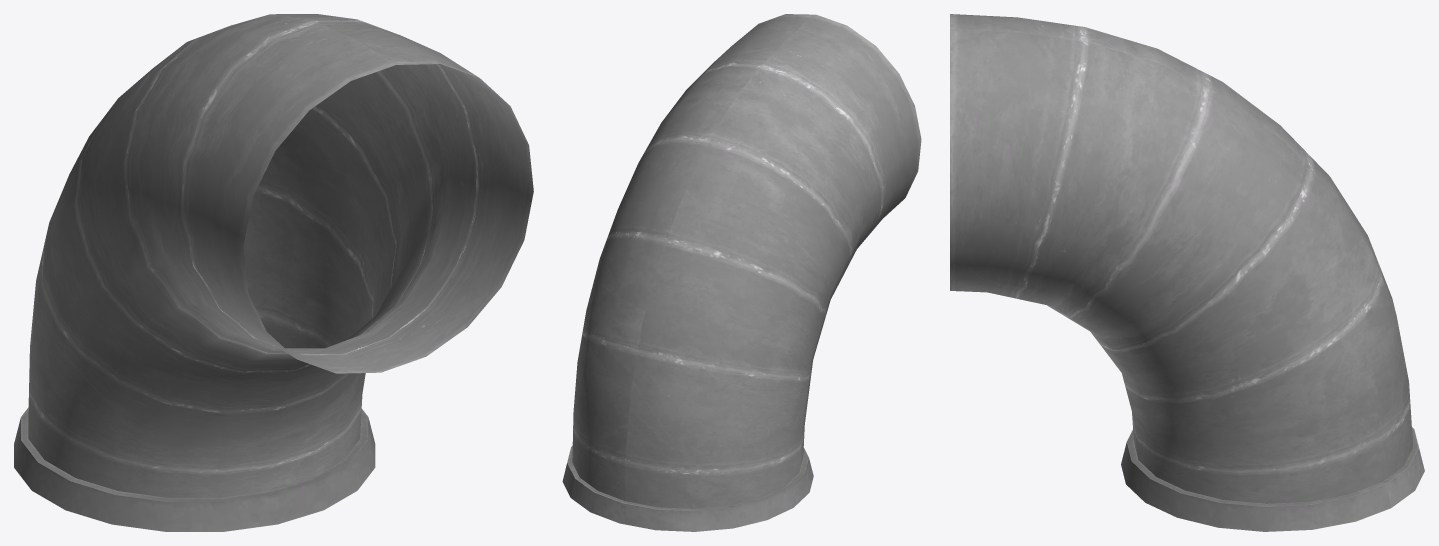
The model's file is SM_Air_Vent_01m.glb.
The picture shows the model from 3 angles, left to right: view 1: azimuth 30°, elevation 25°; view 2: azimuth 150°, elevation 25°; view 3: azimuth 270°, elevation 25°; orthographic projection. The views are drawn at different scales.
Parts seen in each view (by area): view 1: SM_Air_Vent_01m; view 2: SM_Air_Vent_01m; view 3: SM_Air_Vent_01m.
Boxes of the visible parts, <box> form: SM_Air_Vent_01m: <box>14,14,533,531</box>; SM_Air_Vent_01m: <box>562,14,921,531</box>; SM_Air_Vent_01m: <box>950,14,1424,531</box>.
Size of the model in its own units: 0.3219 by 0.5302 by 0.5029.
Materials: 1 (1 with a texture image).
